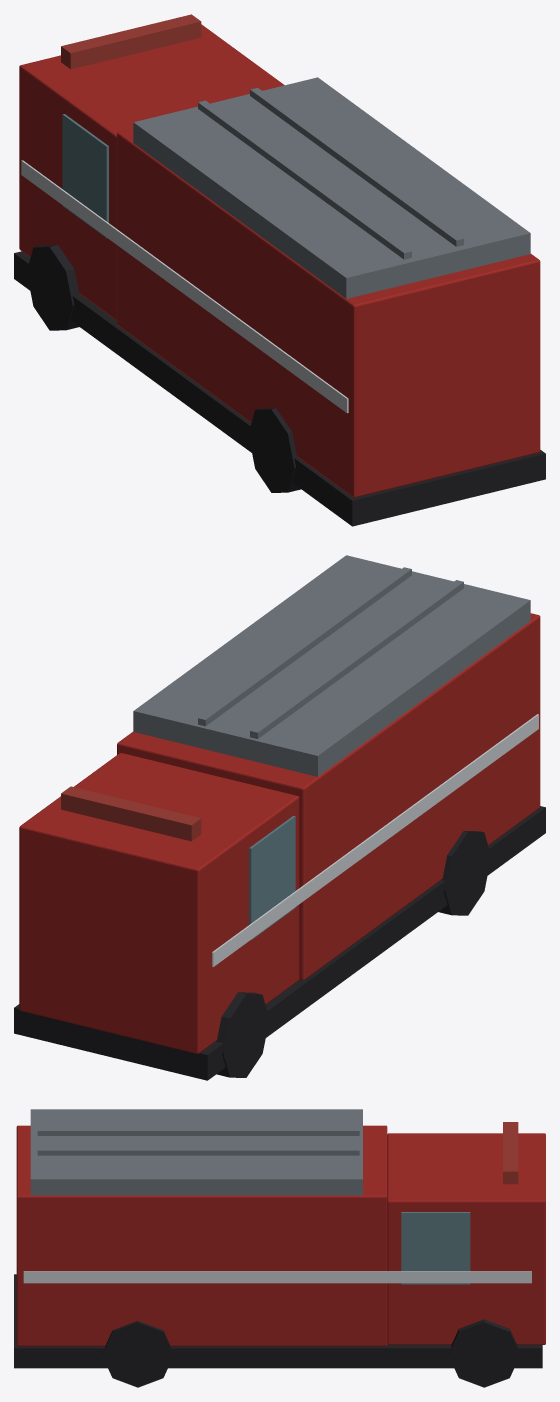
Rendered from fire_truck_lod1.glb.
3 renders of one model, top to bottom at view 1: azimuth 30°, elevation 25°; view 2: azimuth 150°, elevation 25°; view 3: azimuth 270°, elevation 25°, orthographic. The views are drawn at different scales.
Visible parts, largest first — view 1: fire_truck_lod1; view 2: fire_truck_lod1; view 3: fire_truck_lod1.
Part boxes in pixels (x1,y1,x2,y2): fire_truck_lod1: [14, 14, 545, 526]; fire_truck_lod1: [14, 555, 545, 1080]; fire_truck_lod1: [14, 1109, 545, 1387].
Size of what is drawn, in the model's own units: 2.56 by 3.36 by 7.68.
2 materials, 2 textured.
